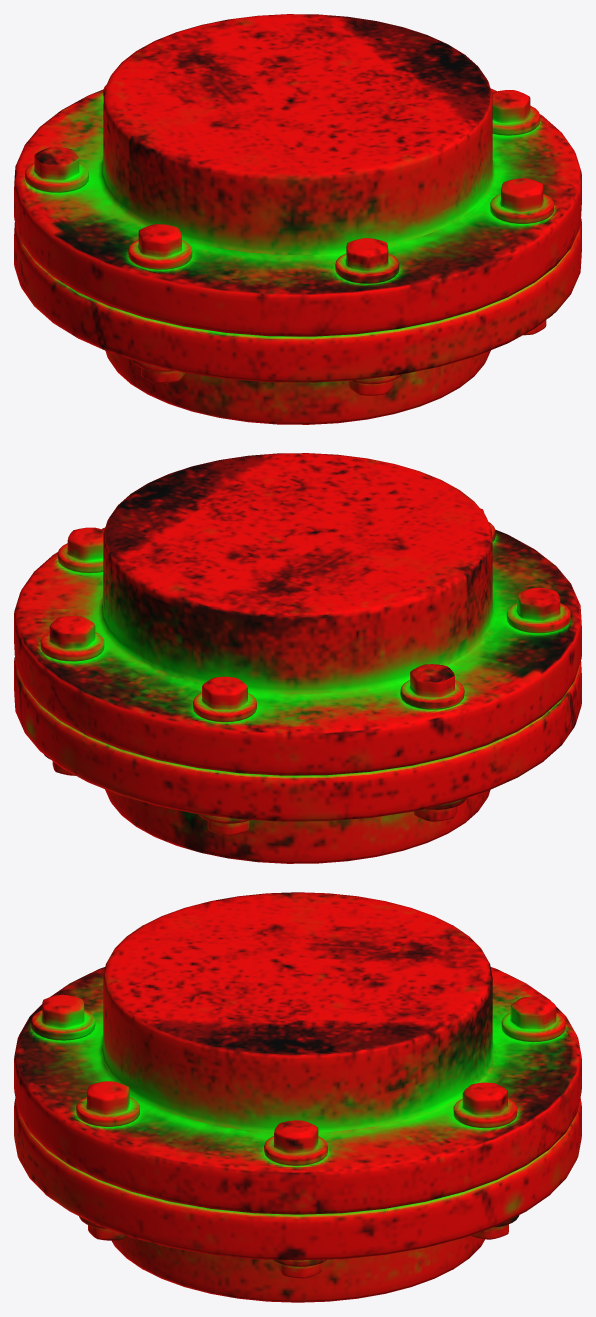
Rendered from SM_IronPipe_connection_02.fbx.
3 views of the same model, one above another, from view 1: azimuth 30°, elevation 25°; view 2: azimuth 150°, elevation 25°; view 3: azimuth 270°, elevation 25° (orthographic).
Parts seen in each view (by area): view 1: SM_IronPipe_connection_02_LOD0; view 2: SM_IronPipe_connection_02_LOD0; view 3: SM_IronPipe_connection_02_LOD0.
Part boxes in pixels (x1,y1,x2,y2): SM_IronPipe_connection_02_LOD0: [14, 14, 581, 424]; SM_IronPipe_connection_02_LOD0: [14, 453, 581, 863]; SM_IronPipe_connection_02_LOD0: [14, 892, 581, 1302].
Size of the model in its own units: 24.14 by 24.14 by 11.73.
